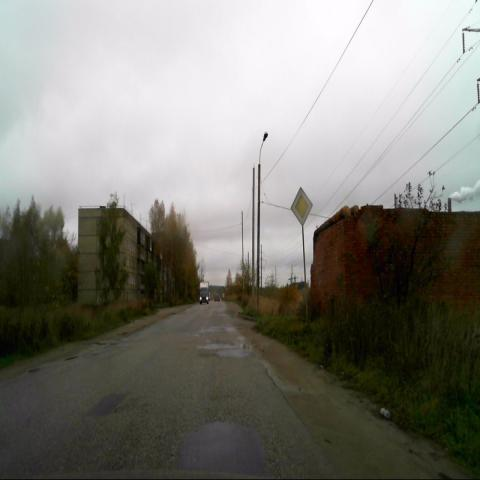2_1: (290, 187, 313, 226)
